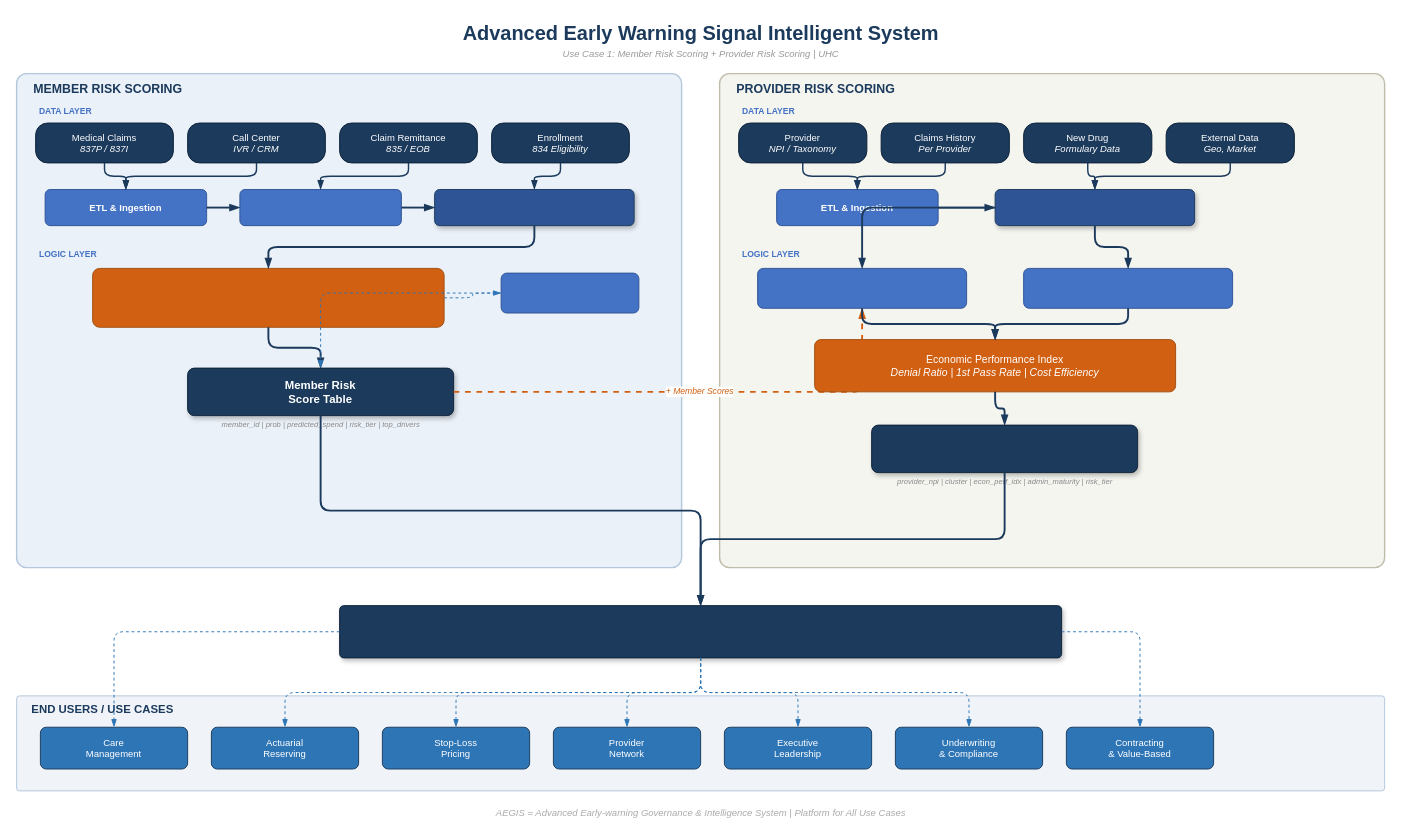
This 1402x836 diagram has some shape labels left out. The shapes that lost their labels are listed below. From the top down, each one's centre as x and y in pixels, then its label:
At point 320,207: "Data Quality".
At point 535,208: "Feature Store 85 Member Features".
At point 1095,208: "Provider Feature Store".
At point 268,297: "Member Cost Prediction (Risk Tier Assignment) CRITICAL | HIGH | ELEVATED | WATCH".
At point 569,292: "SHAP Explainability".
At point 862,287: "Provider Clustering Geo, Specialty, Embeddings".
At point 1128,287: "Administrative / Coding Maturity Index".
At point 1005,449: "Provider Risk Score Table".
At point 701,633: "Early Warning Intelligence Signal Dashboard".
